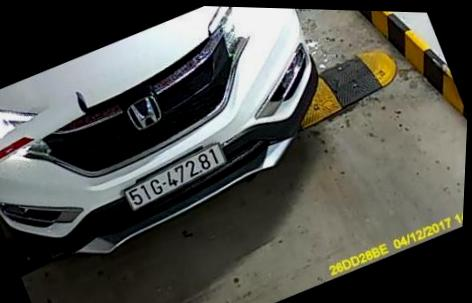License_Plate: (122, 140, 241, 219)
